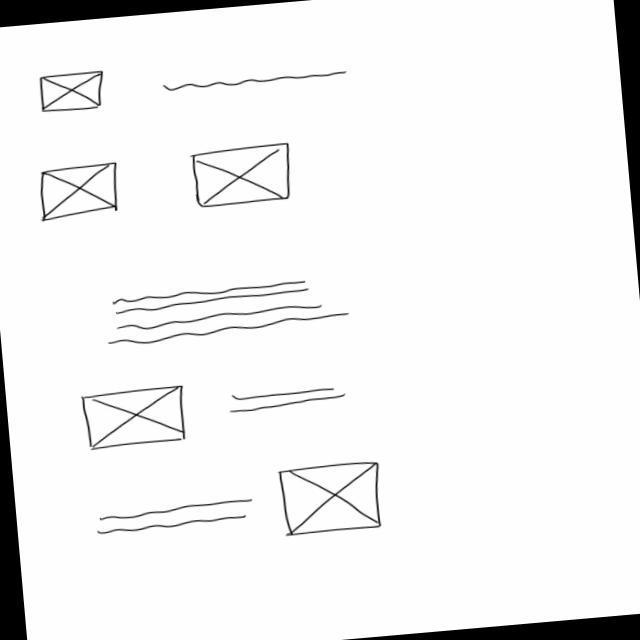image: (277, 459, 387, 538), (81, 385, 190, 451), (189, 143, 296, 209), (39, 162, 124, 223), (38, 70, 107, 115)
text: (162, 67, 349, 95)
textbox: (104, 275, 354, 350), (97, 498, 256, 536), (228, 383, 349, 415)
